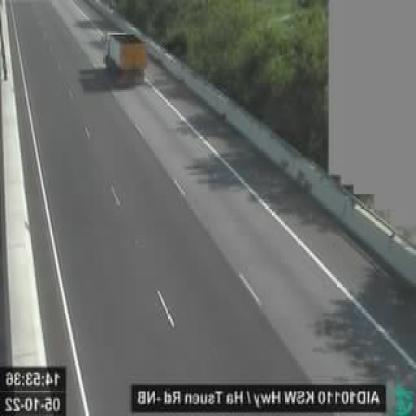Truck: (105, 28, 146, 85)
